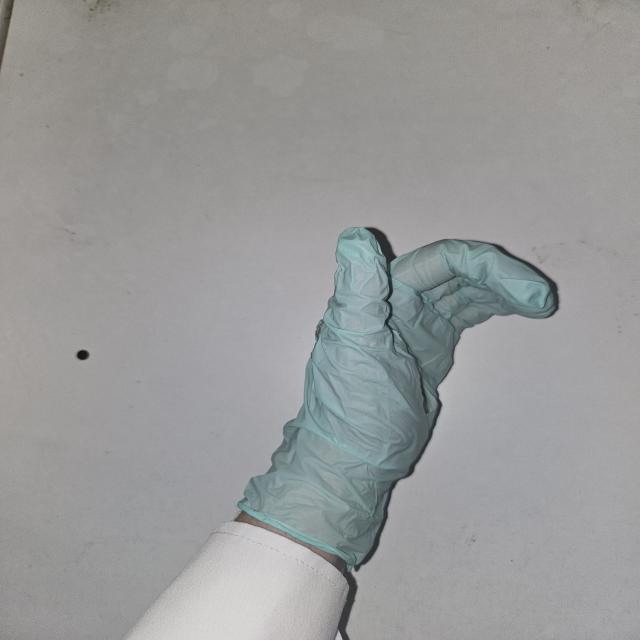gloves_damaged: (233, 225, 562, 564)
